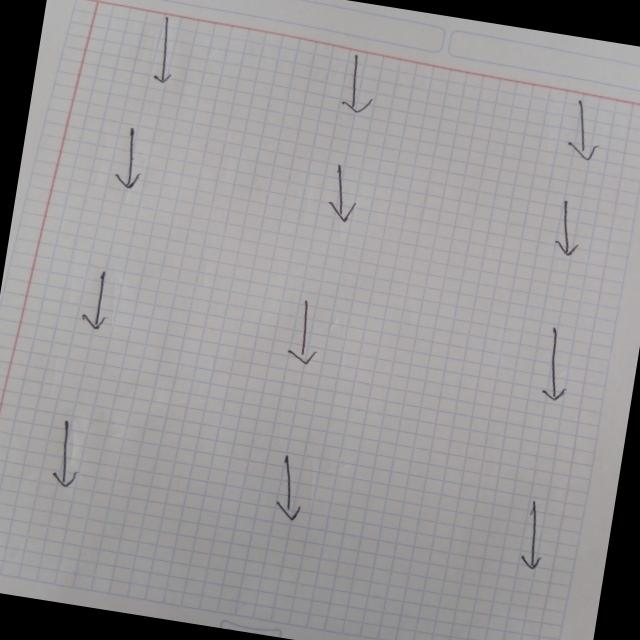arrow_line_down: (554, 88, 618, 167), (258, 448, 320, 528), (532, 326, 586, 410), (310, 160, 374, 230), (278, 294, 334, 372), (44, 416, 100, 492), (542, 194, 602, 264), (70, 264, 126, 336), (507, 495, 559, 572), (105, 121, 156, 199), (338, 52, 393, 122), (148, 12, 192, 92)
